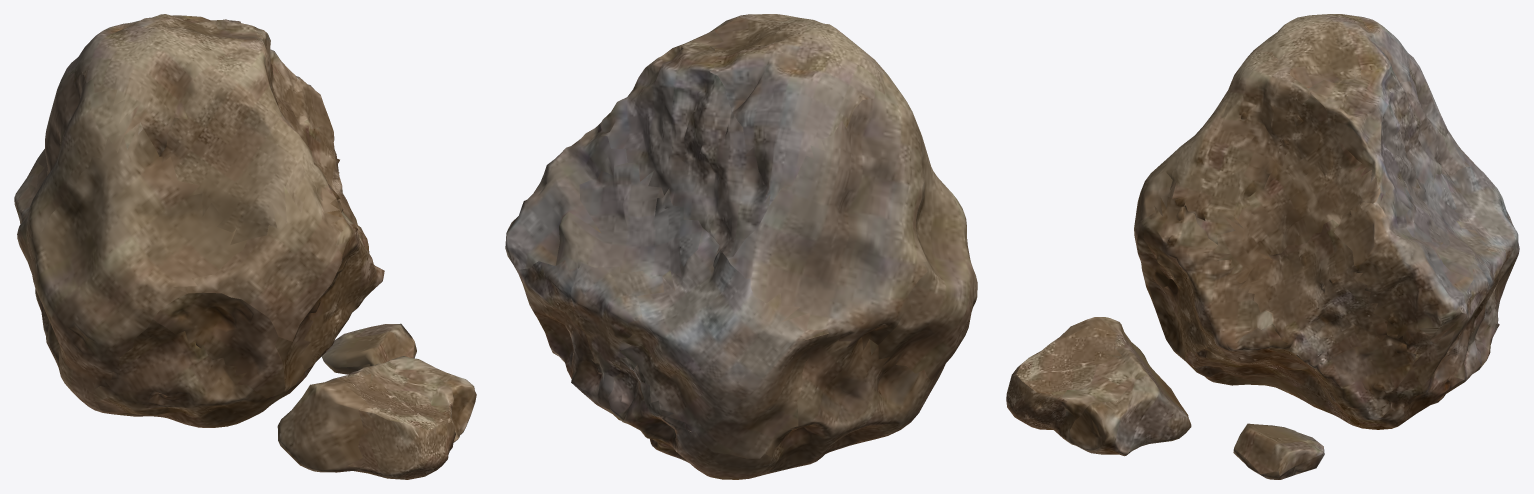
Rendered from Stone.glb.
3 views of the same model, side by side, from view 1: azimuth 30°, elevation 25°; view 2: azimuth 150°, elevation 25°; view 3: azimuth 270°, elevation 25° (orthographic). The views are drawn at different scales.
Visible parts, largest first — view 1: Stone; view 2: Stone; view 3: Stone.
Boxes of the visible parts, <box> form: Stone: <box>14,14,476,479</box>; Stone: <box>505,14,977,479</box>; Stone: <box>1006,14,1519,479</box>.
Bounding box in the file's own units: 0.7682 × 0.7471 × 0.9808.
1 material, 1 textured.
